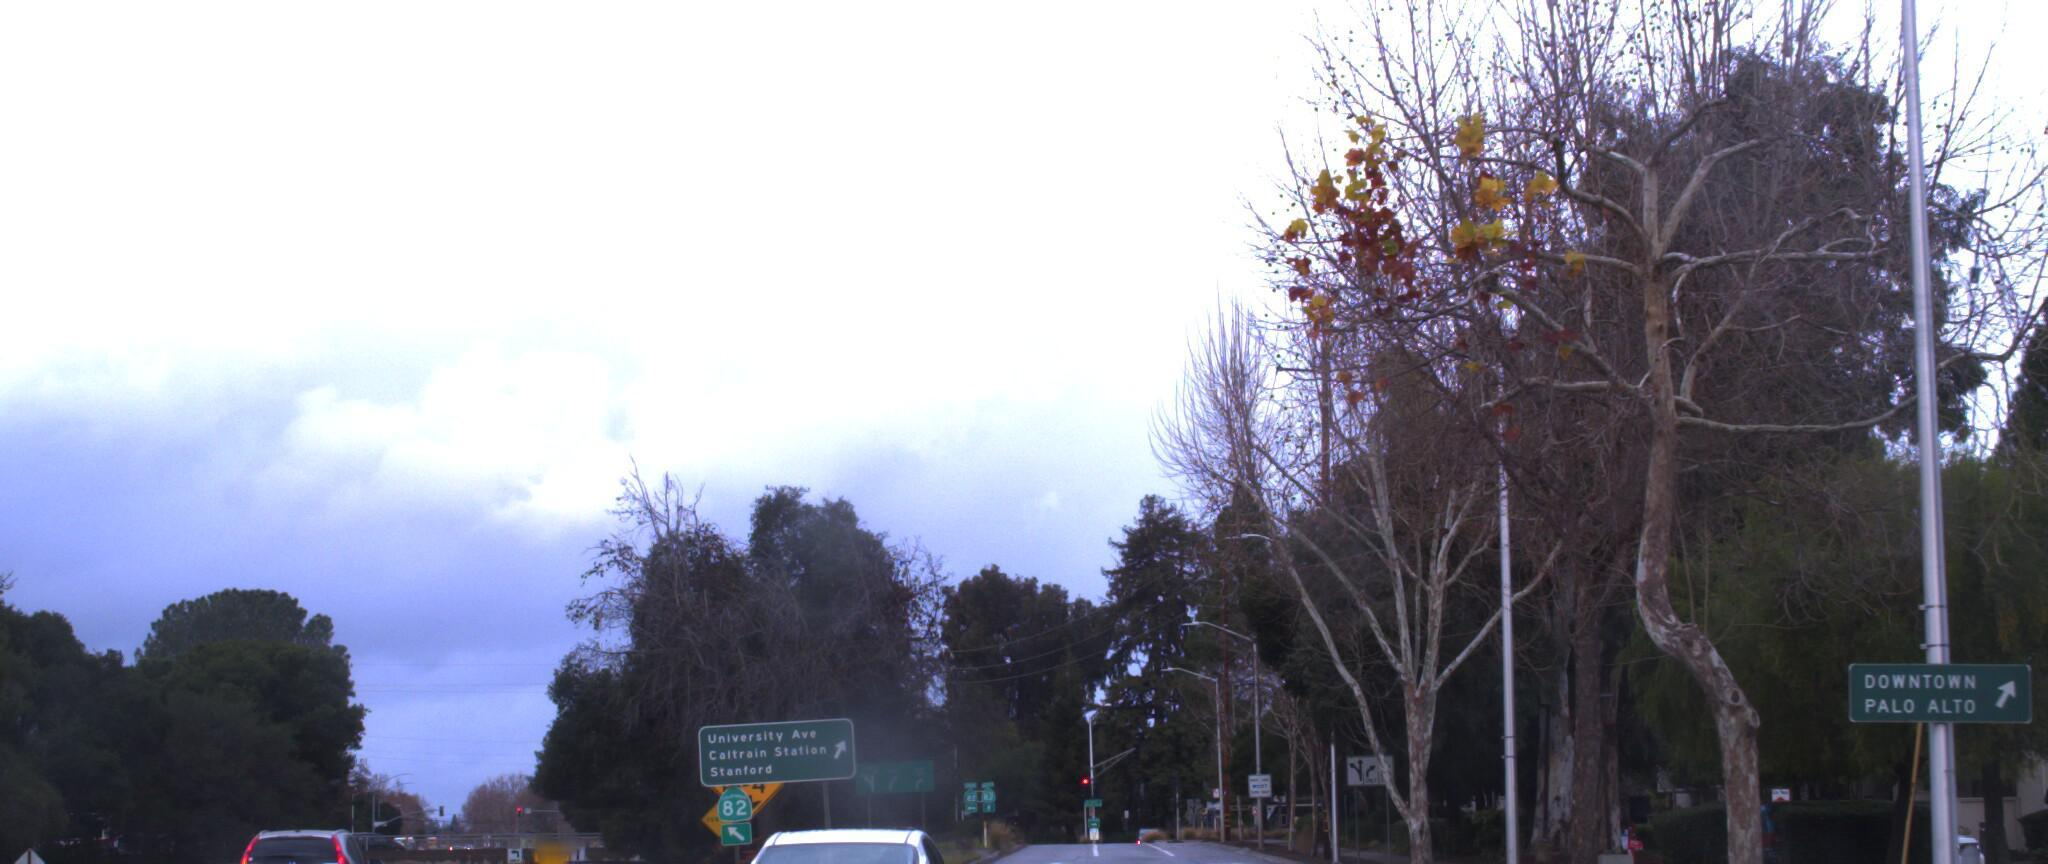car: (704, 807, 973, 864), (226, 807, 381, 864), (142, 831, 259, 864), (76, 833, 175, 864), (426, 837, 502, 864)
